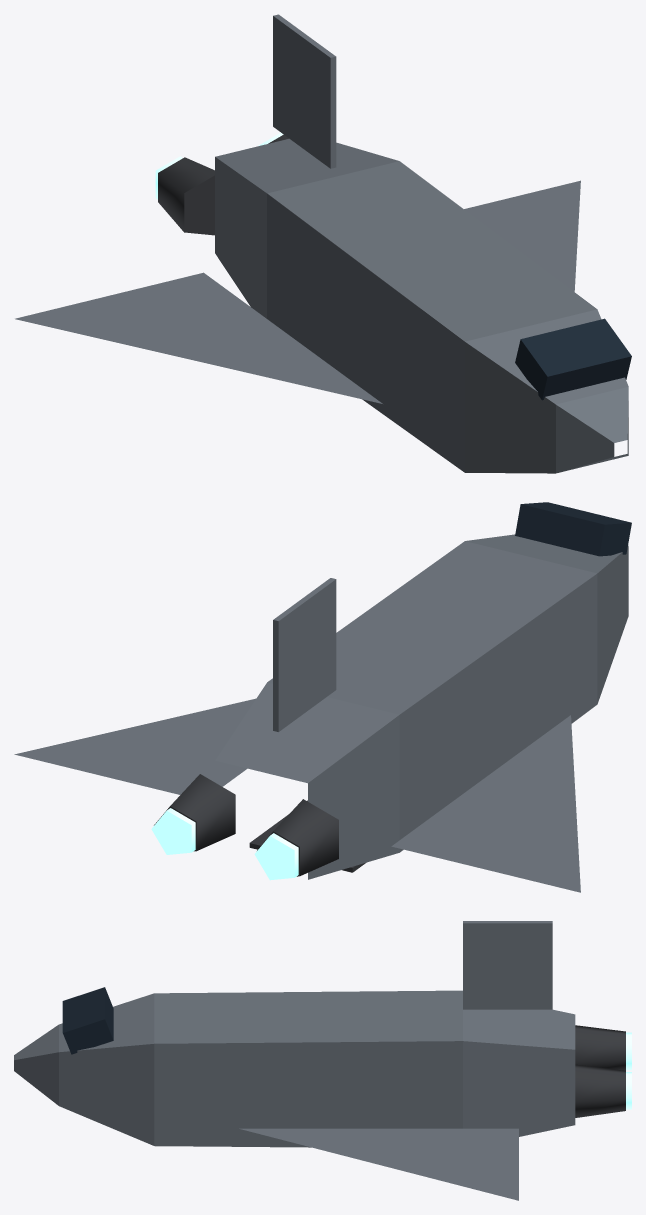
The model's file is space_ship_shuttle_mk3_lod1.glb.
The picture shows the model from 3 angles, top to bottom: view 1: azimuth 30°, elevation 25°; view 2: azimuth 150°, elevation 25°; view 3: azimuth 270°, elevation 25°; orthographic projection. The views are drawn at different scales.
Visible parts, largest first — view 1: body, engine_1; view 2: body, engine_0, engine_1; view 3: body, engine_0, engine_1.
Part boxes in pixels (<box>): body: <box>15,14,631,473</box>; engine_1: <box>155,156,214,235</box>; body: <box>14,502,631,892</box>; engine_0: <box>151,774,235,854</box>; engine_1: <box>254,799,338,880</box>; body: <box>14,921,575,1200</box>; engine_0: <box>575,1064,631,1117</box>; engine_1: <box>575,1025,631,1070</box>.
Bounding box in the file's own units: 10.16 × 4.42 × 12.29.
